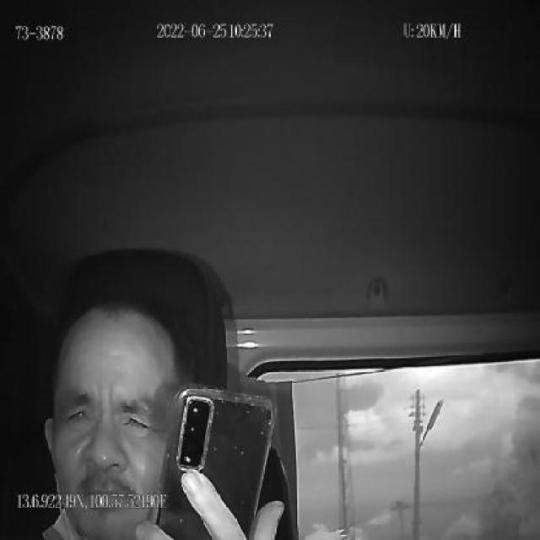phone: (156, 385, 274, 540)
